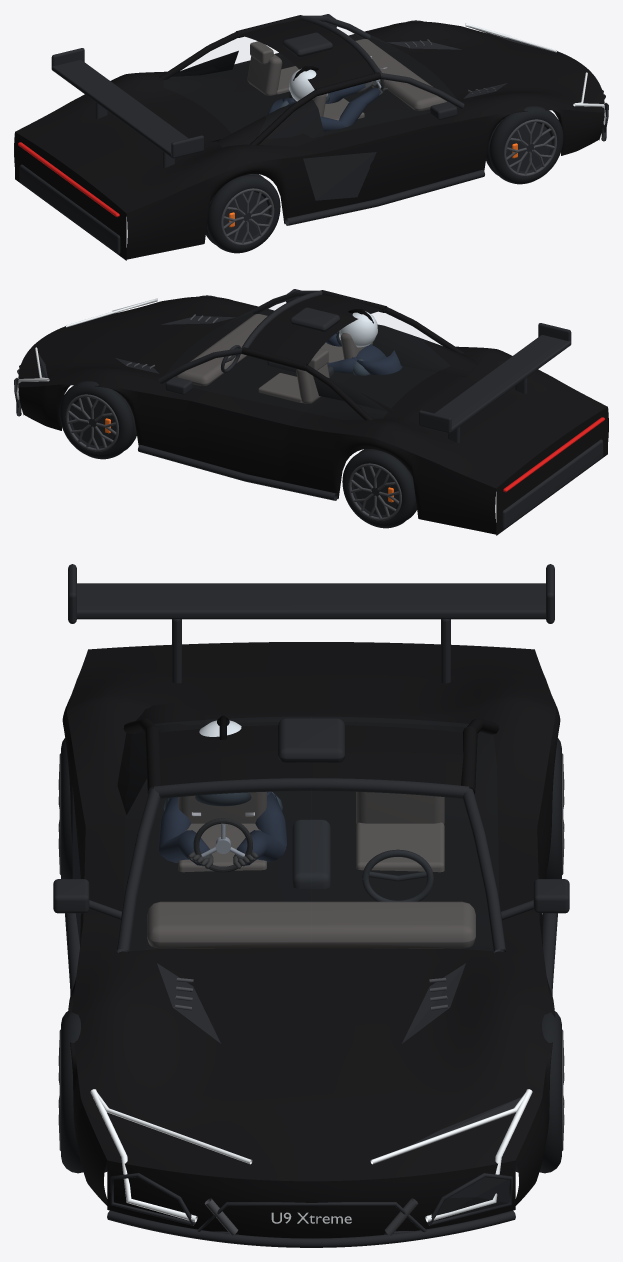
Rendered from yangwang-u9.glb.
The picture shows the model from 3 angles, top to bottom: view 1: azimuth 30°, elevation 25°; view 2: azimuth 150°, elevation 25°; view 3: azimuth 270°, elevation 25°; orthographic projection. The views are drawn at different scales.
Visible parts, largest first — view 1: Sculpted bonnet and wheel shoulders, Wheel arch and door skin.001, Crowned roof, Rear carbon wing, Bumper skin.001, Rear flying buttress.001, Sculpted side intake.001, Pneu.007, Pneu.005, Diffuseur, Dashboard, Carbon sill.001 (+24 smaller); view 2: Sculpted bonnet and wheel shoulders, Wheel arch and door skin, Crowned roof, Rear carbon wing, Bumper skin.001, Rear flying buttress.001, Pneu.002, Pneu, Diffuseur, Dashboard, Carbon sill, Disque (+21 smaller); view 3: Sculpted bonnet and wheel shoulders, Rear carbon wing, Bumper skin, Dashboard, Crowned roof, Windshield header, Carbon splitter, Wheel arch and door skin, Wheel arch and door skin.001, Assise, Rear flying buttress.001, Roof scoop (+25 smaller).
Part boxes in pixels (x1=…): Sculpted bonnet and wheel shoulders: x1=15, y1=21, x2=604, y2=213; Wheel arch and door skin.001: x1=126, y1=109, x2=603, y2=259; Crowned roof: x1=238, y1=19, x2=373, y2=91; Rear carbon wing: x1=51, y1=60, x2=188, y2=157; Bumper skin.001: x1=15, y1=132, x2=126, y2=260; Rear flying buttress.001: x1=211, y1=99, x2=324, y2=147; Sculpted side intake.001: x1=303, y1=152, x2=376, y2=200; Pneu.007: x1=207, y1=175, x2=280, y2=253; Pneu.005: x1=489, y1=106, x2=563, y2=184; Diffuseur: x1=19, y1=164, x2=120, y2=253; Dashboard: x1=355, y1=39, x2=447, y2=111; Carbon sill.001: x1=285, y1=170, x2=484, y2=225; Sculpted bonnet and wheel shoulders: x1=18, y1=296, x2=607, y2=488; Wheel arch and door skin: x1=19, y1=384, x2=496, y2=534; Crowned roof: x1=249, y1=294, x2=384, y2=366; Rear carbon wing: x1=434, y1=335, x2=571, y2=432; Bumper skin.001: x1=496, y1=407, x2=607, y2=535; Rear flying buttress.001: x1=372, y1=324, x2=479, y2=377; Pneu.002: x1=342, y1=450, x2=415, y2=528; Pneu: x1=59, y1=381, x2=133, y2=459; Diffuseur: x1=502, y1=439, x2=603, y2=528; Dashboard: x1=175, y1=314, x2=267, y2=386; Carbon sill: x1=138, y1=445, x2=337, y2=500; Disque: x1=71, y1=397, x2=116, y2=446; Sculpted bonnet and wheel shoulders: x1=67, y1=642, x2=555, y2=1181; Rear carbon wing: x1=77, y1=583, x2=545, y2=619; Bumper skin: x1=107, y1=1160, x2=515, y2=1238; Dashboard: x1=147, y1=901, x2=475, y2=948; Crowned roof: x1=155, y1=725, x2=467, y2=786; Windshield header: x1=153, y1=778, x2=469, y2=798; Carbon splitter: x1=107, y1=1210, x2=515, y2=1247; Wheel arch and door skin: x1=515, y1=696, x2=560, y2=1205; Wheel arch and door skin.001: x1=62, y1=696, x2=107, y2=1205; Assise: x1=356, y1=822, x2=444, y2=872; Rear flying buttress.001: x1=117, y1=702, x2=206, y2=814; Roof scoop: x1=278, y1=718, x2=344, y2=762.
Size of the model in its own units: 5.01 by 1.27 by 2.15.
